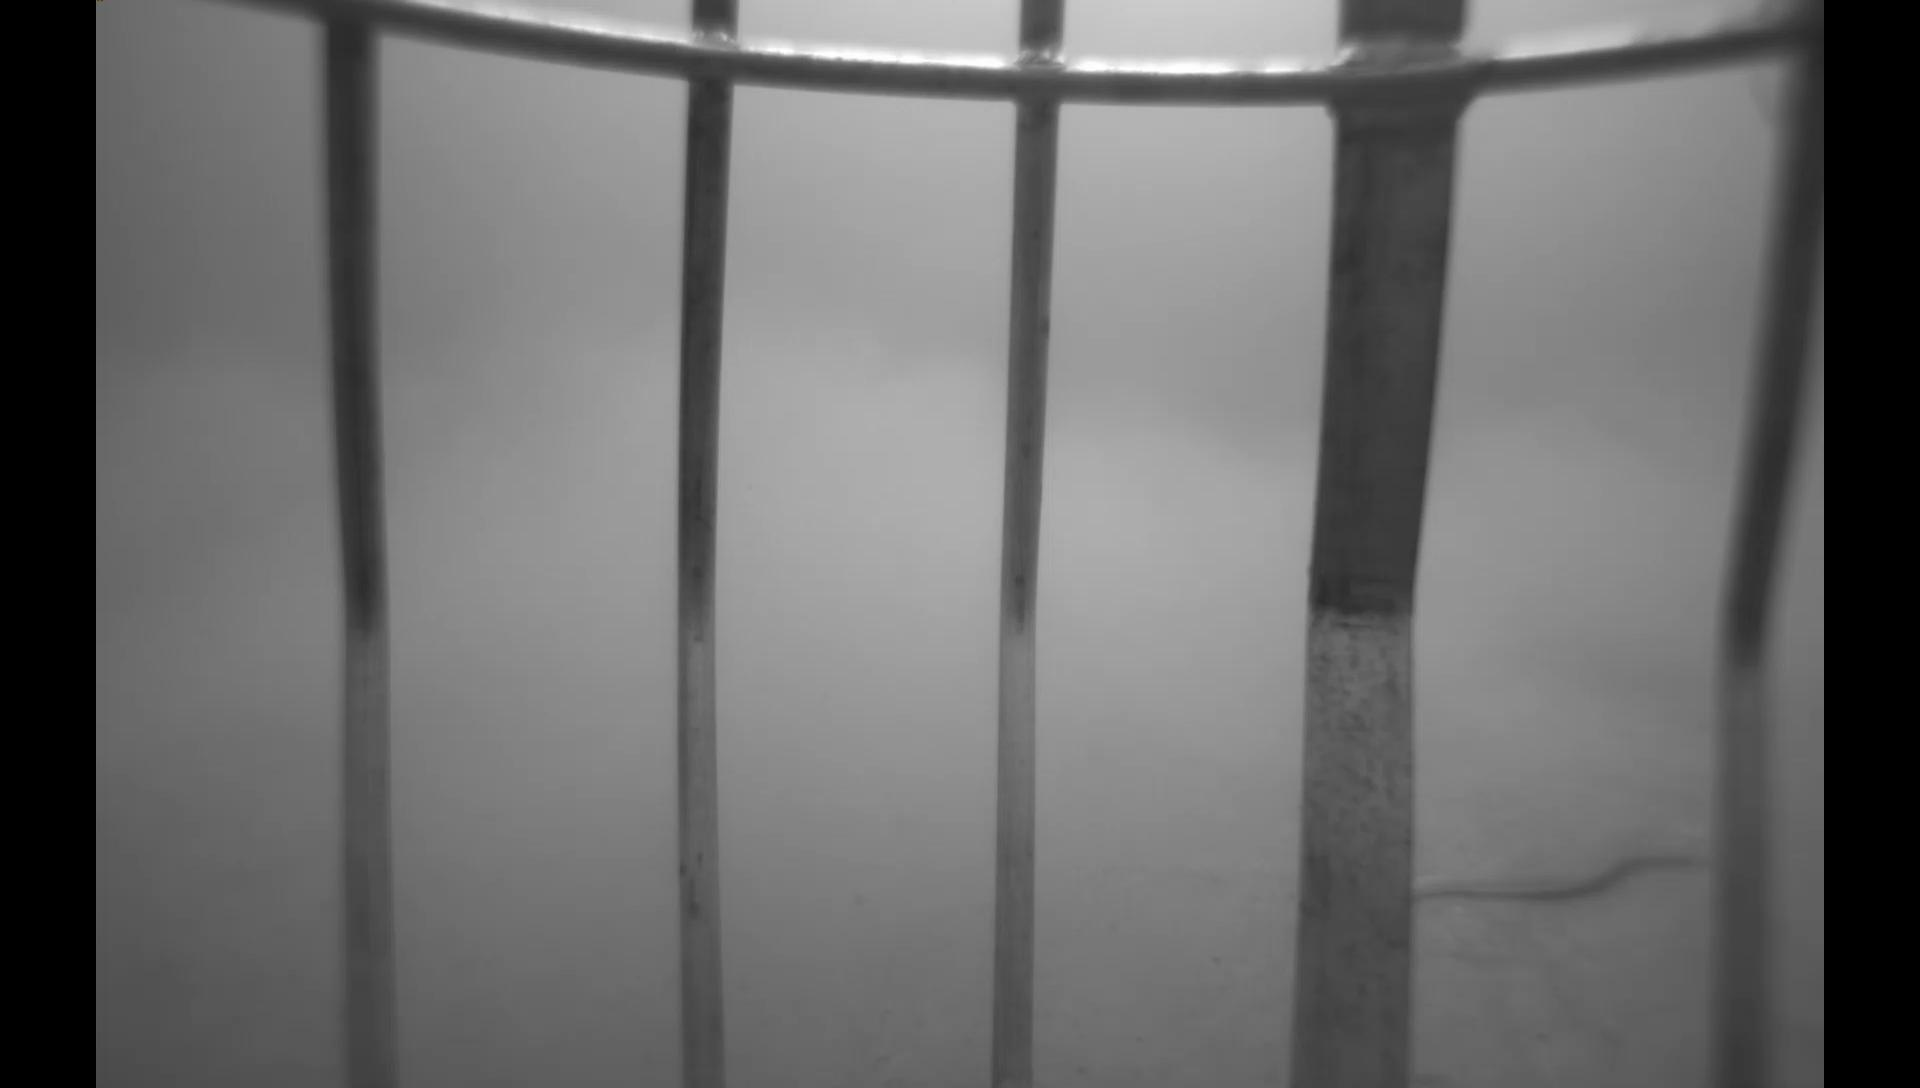OPHICHTHUSPUNCTICEPS-143150402: (1412, 830, 1716, 911)
